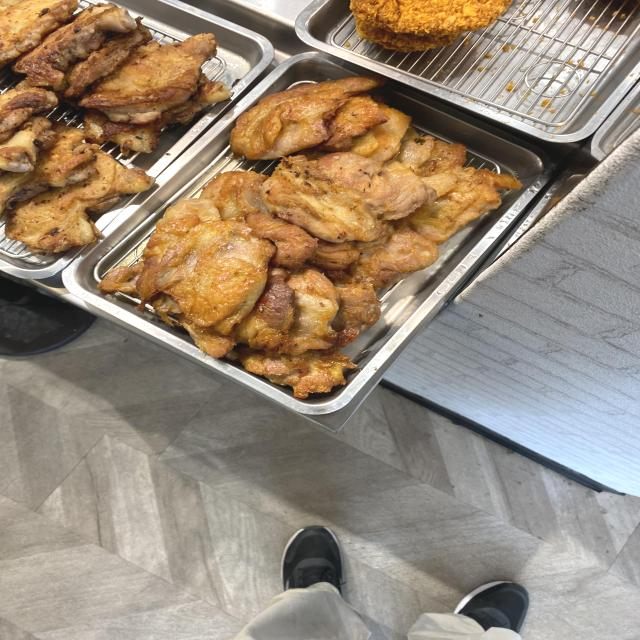Chicken Leg Steak: (184, 202, 361, 328), (29, 20, 167, 118)
